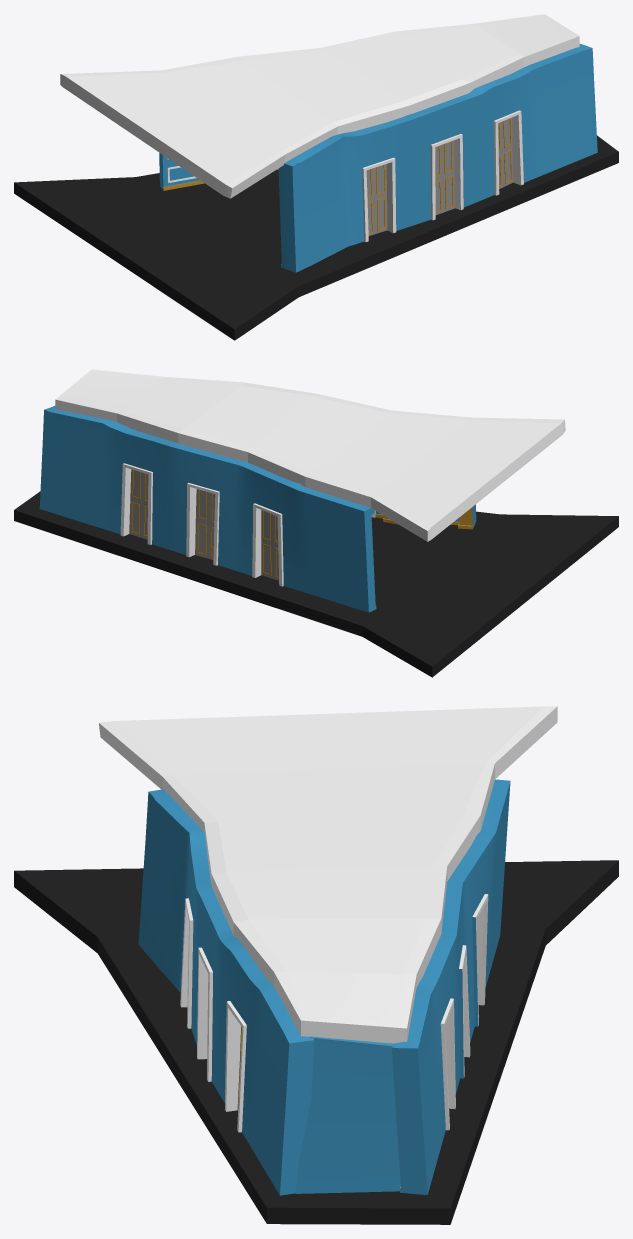
The model's file is EfectoPasillo_2.0.fbx.
The picture shows the model from 3 angles, top to bottom: view 1: azimuth 30°, elevation 25°; view 2: azimuth 150°, elevation 25°; view 3: azimuth 270°, elevation 25°; orthographic projection. The views are drawn at different scales.
Visible parts, largest first — view 1: Techo, Suelo, Pared2, Puerta4, Puerta2, Puerta6, Pared1; view 2: Techo, Pared1, Suelo, Puerta3, Puerta5, Puerta1, Pared2; view 3: Techo, Suelo, Pared2, Pared1, ParedFondo.
Boxes of the visible parts, left/top/right/bottom form: Techo: left=60, top=14, right=579, bottom=198; Suelo: left=14, top=135, right=618, bottom=340; Pared2: left=278, top=43, right=597, bottom=272; Puerta4: left=435, top=140, right=455, bottom=215; Puerta2: left=366, top=164, right=387, bottom=235; Puerta6: left=498, top=117, right=513, bottom=189; Pared1: left=159, top=153, right=204, bottom=190; Techo: left=55, top=369, right=565, bottom=541; Pared1: left=39, top=406, right=376, bottom=612; Suelo: left=14, top=491, right=618, bottom=677; Puerta3: left=195, top=489, right=215, bottom=559; Puerta5: left=129, top=469, right=148, bottom=539; Puerta1: left=261, top=510, right=278, bottom=580; Pared2: left=371, top=504, right=476, bottom=529; Techo: left=99, top=706, right=557, bottom=1043; Suelo: left=14, top=860, right=618, bottom=1224; Pared2: left=138, top=789, right=314, bottom=1195; Pared1: left=391, top=779, right=510, bottom=1194; ParedFondo: left=295, top=1036, right=400, bottom=1193.
Size of the model in its own units: 1499 by 380 by 1100.
